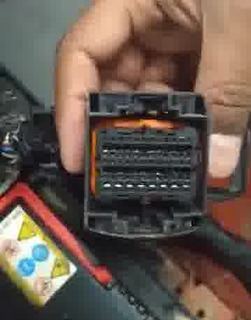connector: (81, 91, 211, 240)
